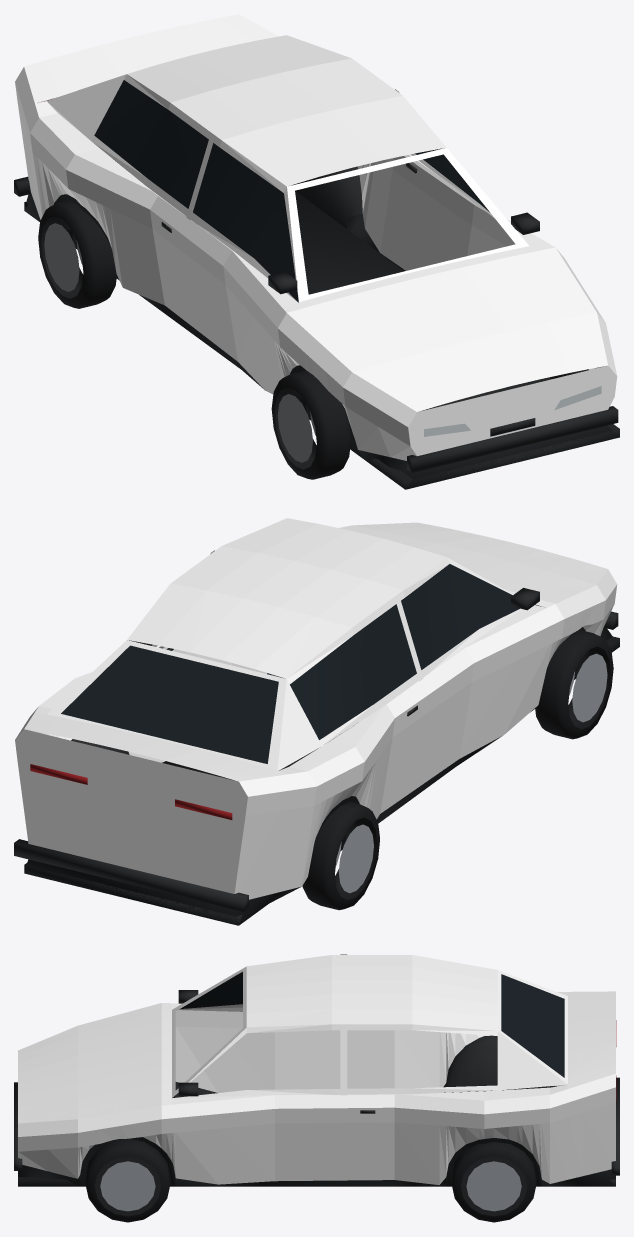
Rendered from hozuki_gaivota.glb.
3 renders of one model, top to bottom at view 1: azimuth 30°, elevation 25°; view 2: azimuth 150°, elevation 25°; view 3: azimuth 270°, elevation 25°, orthographic. The views are drawn at different scales.
Visible parts, largest first — view 1: Body_Paint, Body_Details, Mount_FrontLeft_Wheel_Details, Mount_RearLeft_Wheel_Details; view 2: Body_Paint, Body_Details, Mount_FrontLeft_Wheel_Details, Mount_RearLeft_Wheel_Details; view 3: Body_Paint, Body_Details, Mount_FrontRight_Wheel_Details, Mount_RearRight_Wheel_Details.
Boxes of the visible parts, x1,y1,x2,y2 form: Body_Paint: [15, 14, 617, 460]; Body_Details: [14, 80, 619, 489]; Mount_FrontLeft_Wheel_Details: [271, 370, 351, 479]; Mount_RearLeft_Wheel_Details: [38, 200, 116, 308]; Body_Paint: [15, 518, 617, 899]; Body_Details: [14, 564, 619, 925]; Mount_FrontLeft_Wheel_Details: [535, 629, 613, 739]; Mount_RearLeft_Wheel_Details: [302, 801, 379, 910]; Body_Paint: [18, 954, 615, 1184]; Body_Details: [14, 972, 619, 1186]; Mount_FrontRight_Wheel_Details: [85, 1138, 170, 1222]; Mount_RearRight_Wheel_Details: [451, 1142, 536, 1222].
Size of the model in its own units: 1.81 by 1.34 by 4.05.
2 materials, 1 textured.
